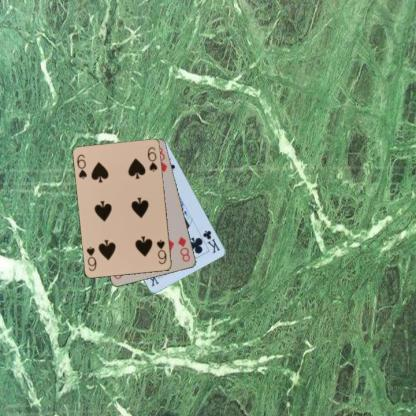6s: (154, 237, 168, 266), (74, 152, 88, 180)
8d: (176, 234, 192, 263)
Kc: (200, 228, 221, 255)
